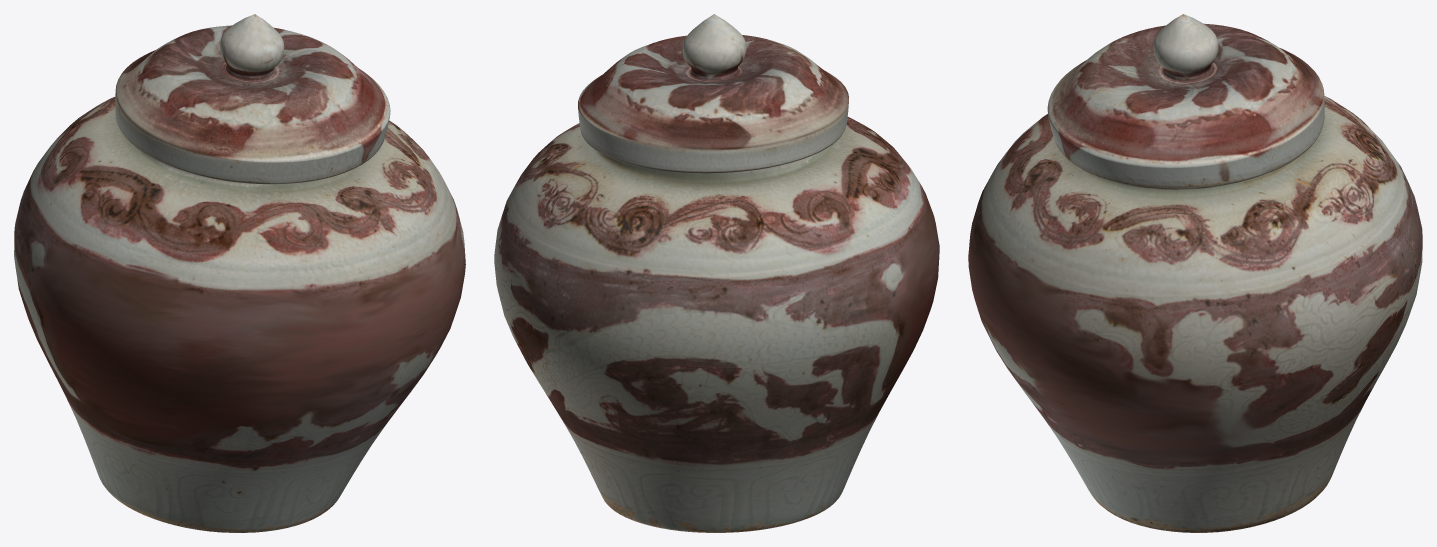
The model's file is dragon-jar.glb.
3 renders of one model, left to right at view 1: azimuth 30°, elevation 25°; view 2: azimuth 150°, elevation 25°; view 3: azimuth 270°, elevation 25°, orthographic. The views are drawn at different scales.
Visible parts, largest first — view 1: 139（瓷30）_元景德镇窑釉里红云龙纹盖罐_一级文物; view 2: 139（瓷30）_元景德镇窑釉里红云龙纹盖罐_一级文物; view 3: 139（瓷30）_元景德镇窑釉里红云龙纹盖罐_一级文物.
Boxes of the visible parts, <box> form: 139（瓷30）_元景德镇窑釉里红云龙纹盖罐_一级文物: <box>14,14,465,532</box>; 139（瓷30）_元景德镇窑釉里红云龙纹盖罐_一级文物: <box>494,14,939,532</box>; 139（瓷30）_元景德镇窑釉里红云龙纹盖罐_一级文物: <box>968,14,1422,532</box>.
Size of the model in its own units: 1.71 by 2 by 1.71.
Materials: 1 (1 with a texture image).
